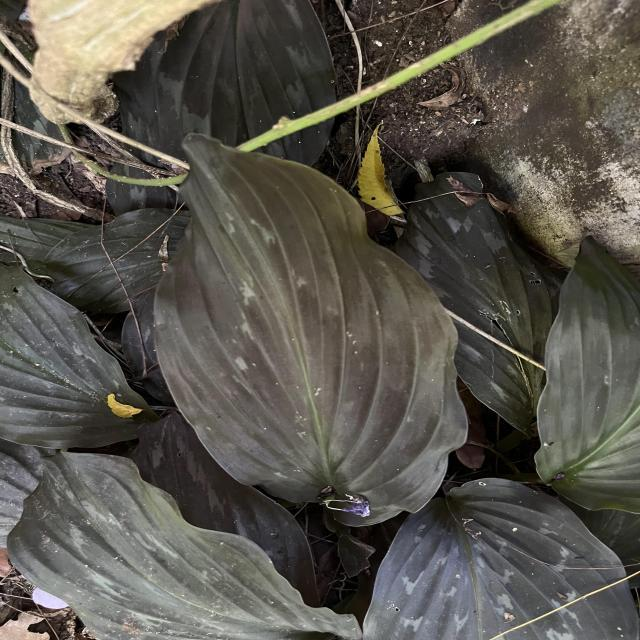Kaempferia galanga linn: (146, 127, 471, 534)
